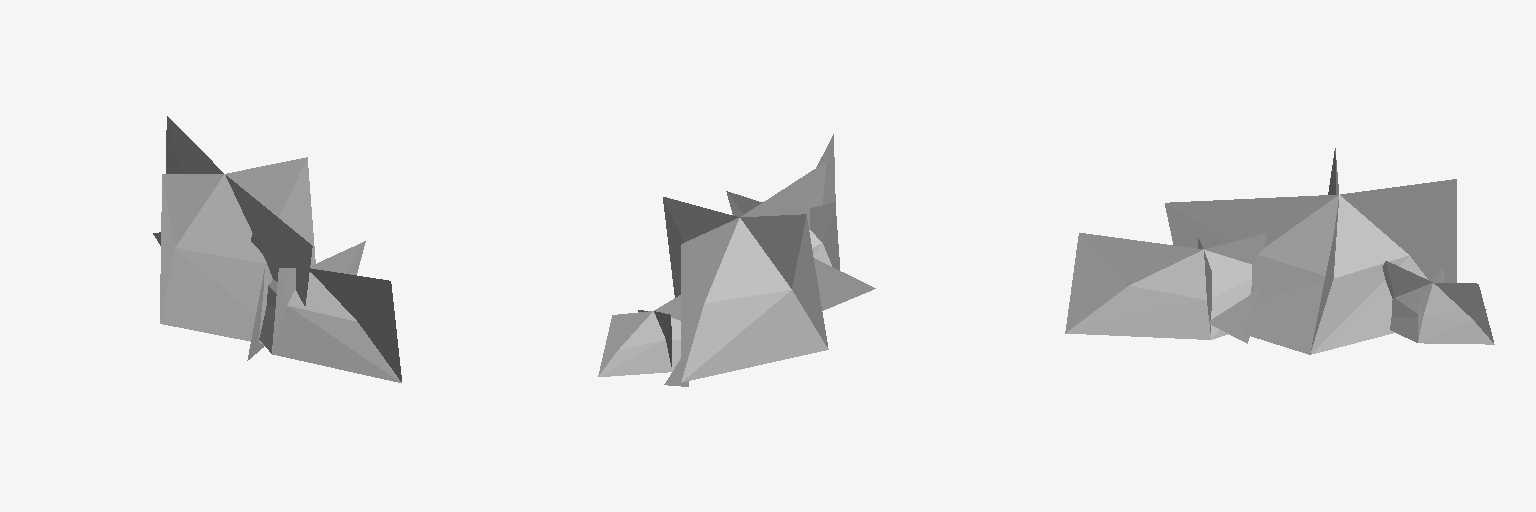
Rendered from duskwoodbush01.obj.
The picture shows the model from 3 angles: view 1: azimuth 30°, elevation 25°; view 2: azimuth 150°, elevation 25°; view 3: azimuth 270°, elevation 25°; orthographic projection.
Parts seen in each view (by area): view 1: object 1; view 2: object 1; view 3: object 1.
Boxes of the visible parts, x1=… form: object 1: x1=153, y1=116, x2=401, y2=382; object 1: x1=598, y1=134, x2=875, y2=386; object 1: x1=1065, y1=148, x2=1494, y2=354.
Size of the model in its own units: 6.68 by 6.35 by 15.82.